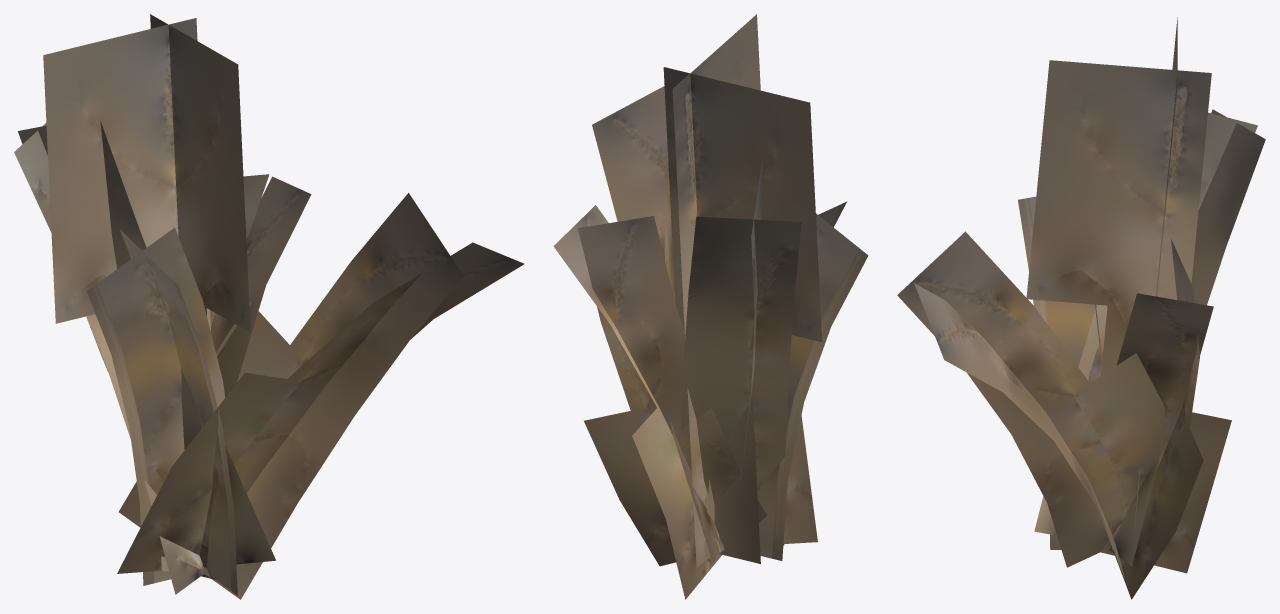
Rendered from reeds_2.fbx.
3 views of the same model, side by side, from view 1: azimuth 30°, elevation 25°; view 2: azimuth 150°, elevation 25°; view 3: azimuth 270°, elevation 25° (orthographic). The views are drawn at different scales.
Parts seen in each view (by area): view 1: reeds_2; view 2: reeds_2; view 3: reeds_2.
Boxes of the visible parts, bbox=[...] form: reeds_2: bbox=[14, 14, 524, 599]; reeds_2: bbox=[553, 14, 868, 599]; reeds_2: bbox=[897, 17, 1265, 599].
Bounding box in the file's own units: 97.56 × 143 × 92.64.
Materials: 1 (1 with a texture image).
